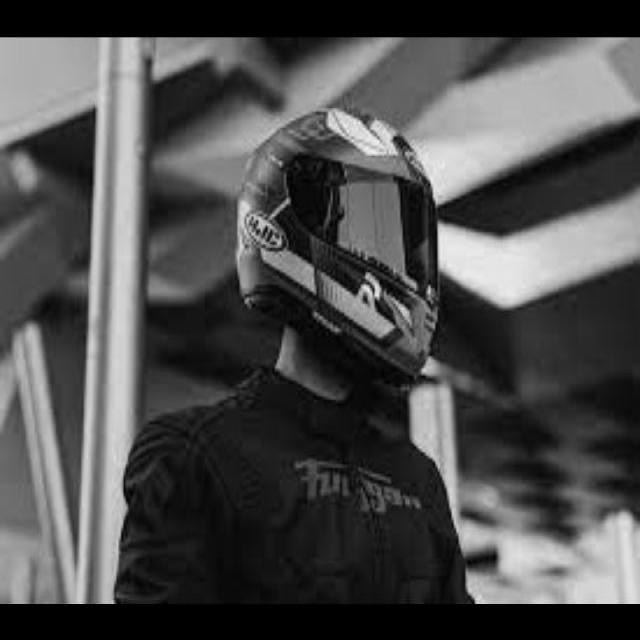5_casco: (228, 100, 442, 392)
